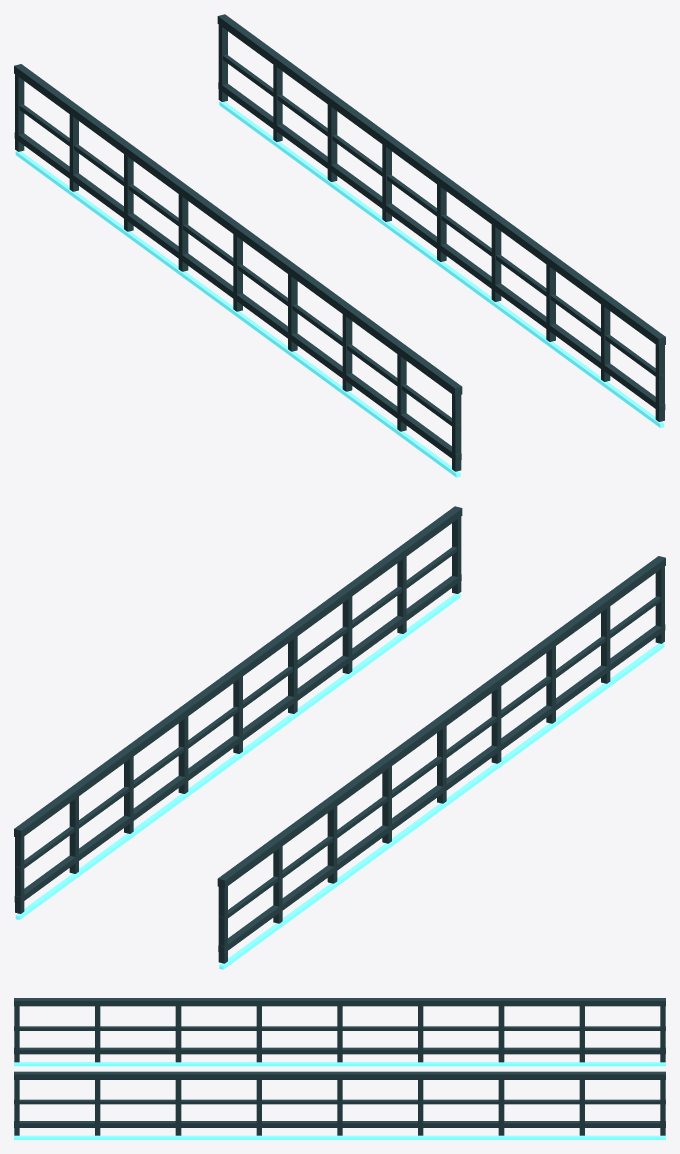
Rendered from d06_harbour_footbridge_06_span.glb.
3 renders of one model, top to bottom at view 1: azimuth 30°, elevation 25°; view 2: azimuth 150°, elevation 25°; view 3: azimuth 270°, elevation 25°, orthographic. The views are drawn at different scales.
Parts seen in each view (by area): view 1: D06HarbourFootbridge06_span_Mesh; view 2: D06HarbourFootbridge06_span_Mesh; view 3: D06HarbourFootbridge06_span_Mesh.
Boxes of the visible parts, left/top/right/bottom form: D06HarbourFootbridge06_span_Mesh: left=14, top=14, right=665, bottom=477; D06HarbourFootbridge06_span_Mesh: left=14, top=506, right=665, bottom=969; D06HarbourFootbridge06_span_Mesh: left=14, top=998, right=665, bottom=1139.
Size of the model in its own units: 3.32 by 1.35 by 12.
